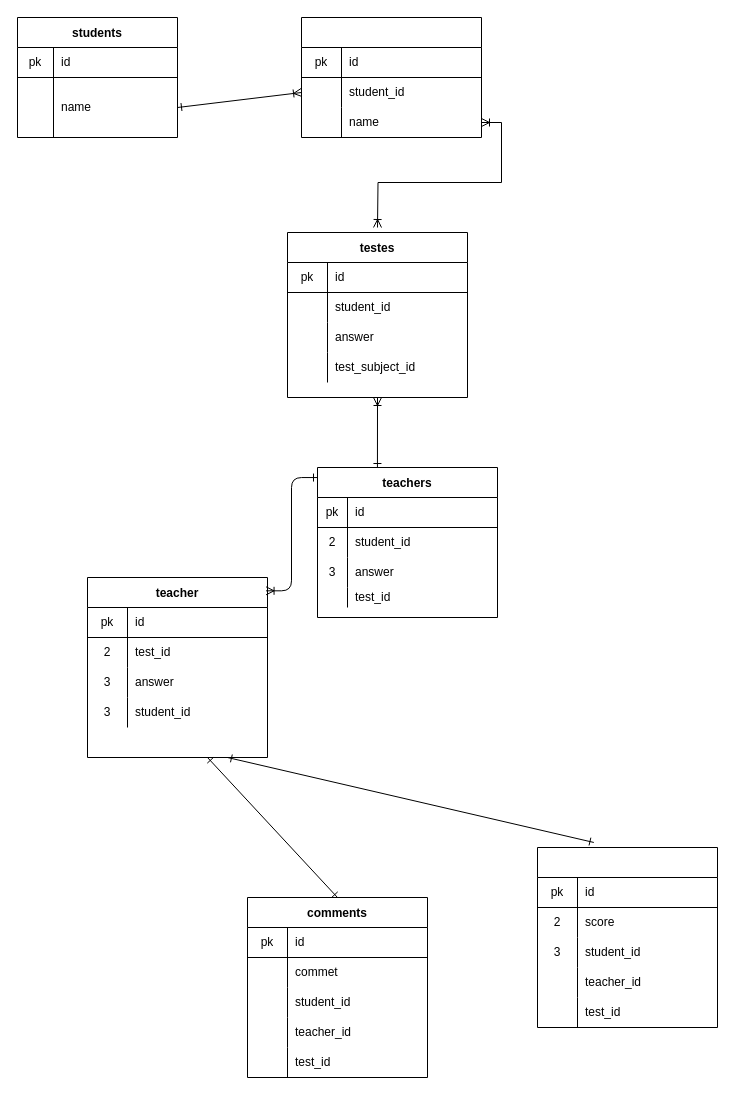
Some shapes in this 735 by 1095 pixel diagram are drawn without their labels. Here are the shapes that lost their labels. From the top down, the box of each, then its label:
(300, 16, 482, 138): test_subjects
(536, 846, 718, 1028): scores
